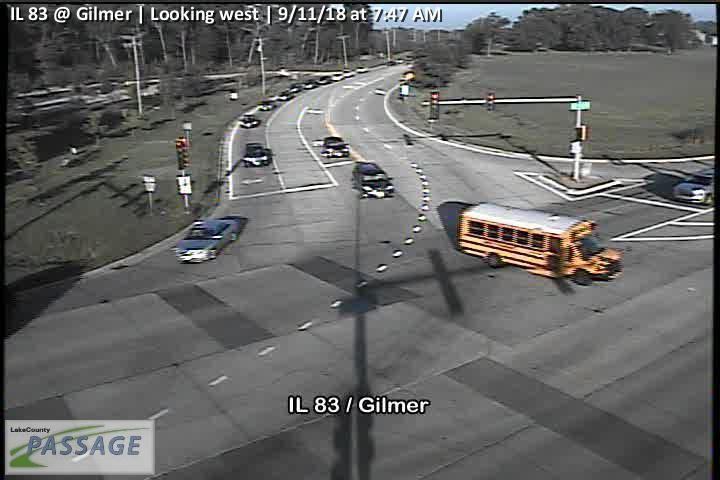Bus: (455, 200, 624, 286)
SUV: (352, 160, 394, 199)
Sedan: (175, 216, 243, 263), (320, 134, 351, 158), (244, 141, 271, 168)
